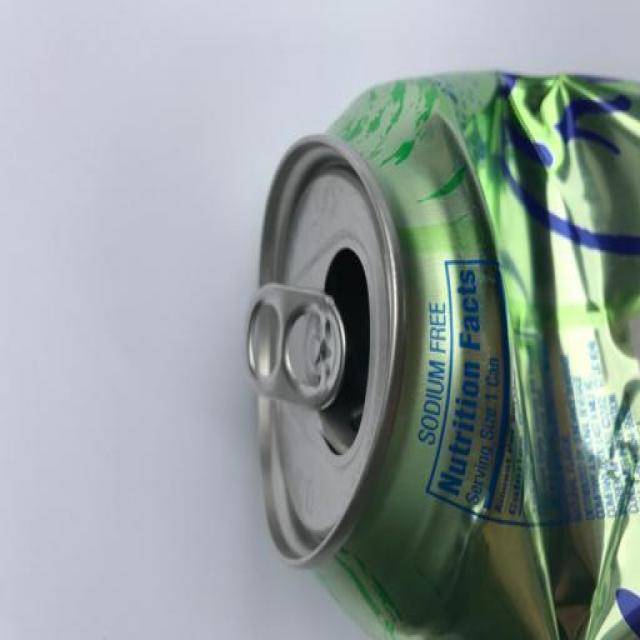metel: (196, 54, 640, 640)
